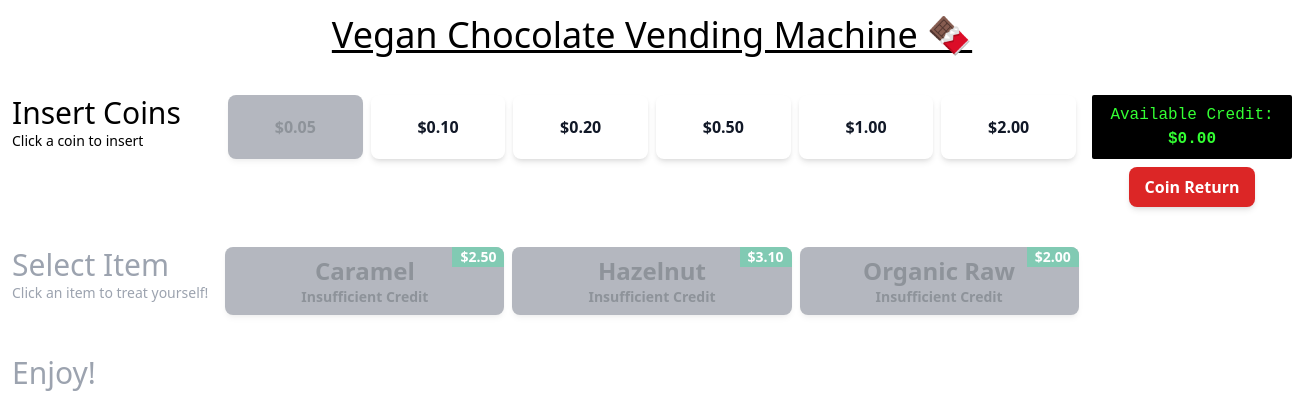
Test: vending machine tests › should allow 10c, 20c, 50c, $1, $2 coins
Click the button "$0.10". click: x=438, y=127
box: [371,95,505,159]
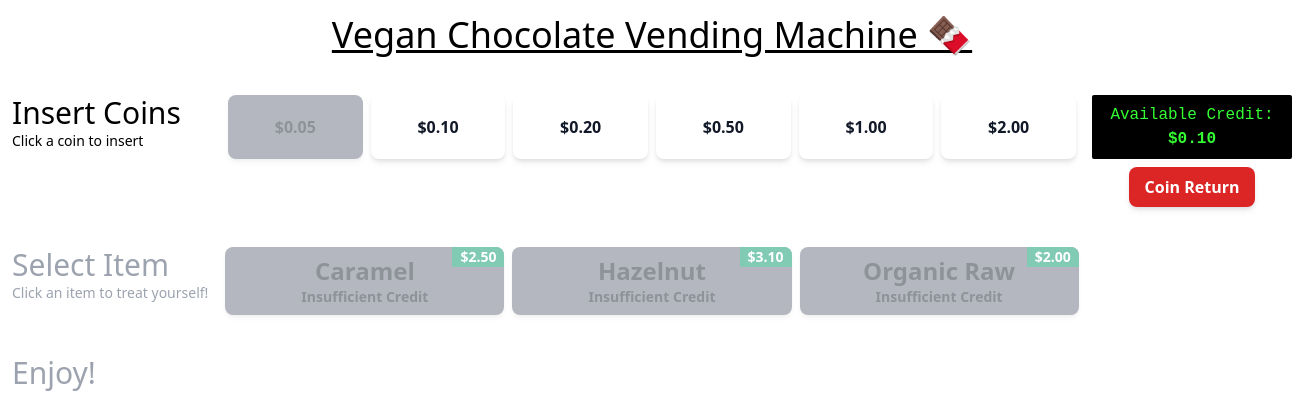
Click the button "$0.20". click: x=581, y=127
box: [513,95,648,159]
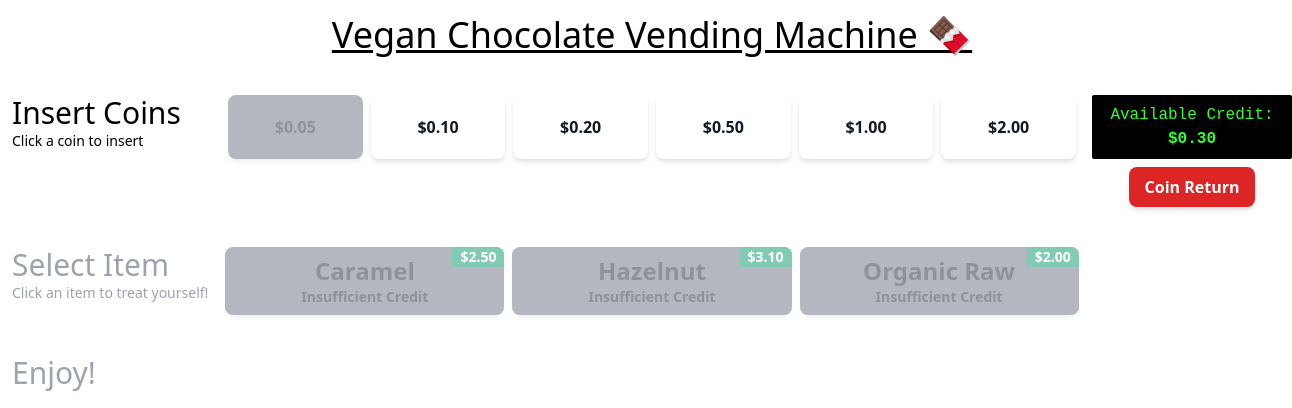
Click the button "$0.50". click: x=723, y=127
box: [656,95,791,159]
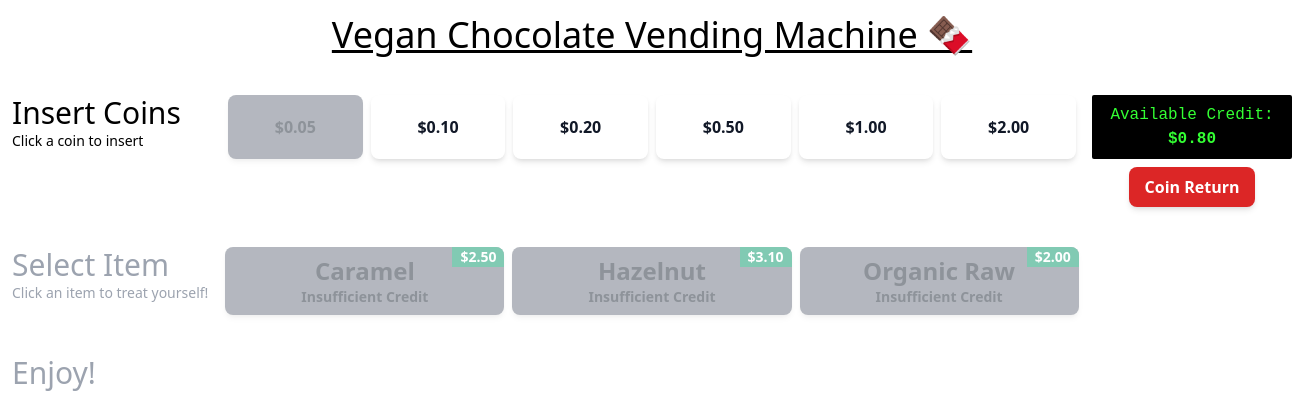
Click the button "$1.00". click: x=866, y=127
box: [799,95,933,159]
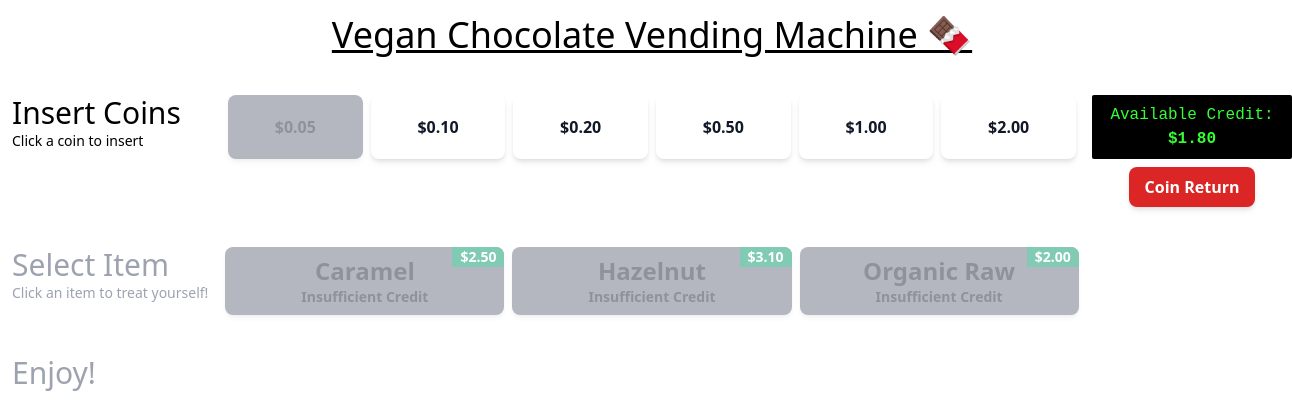
Click the button "$2.00". click: x=1009, y=127
box: [941,95,1076,159]
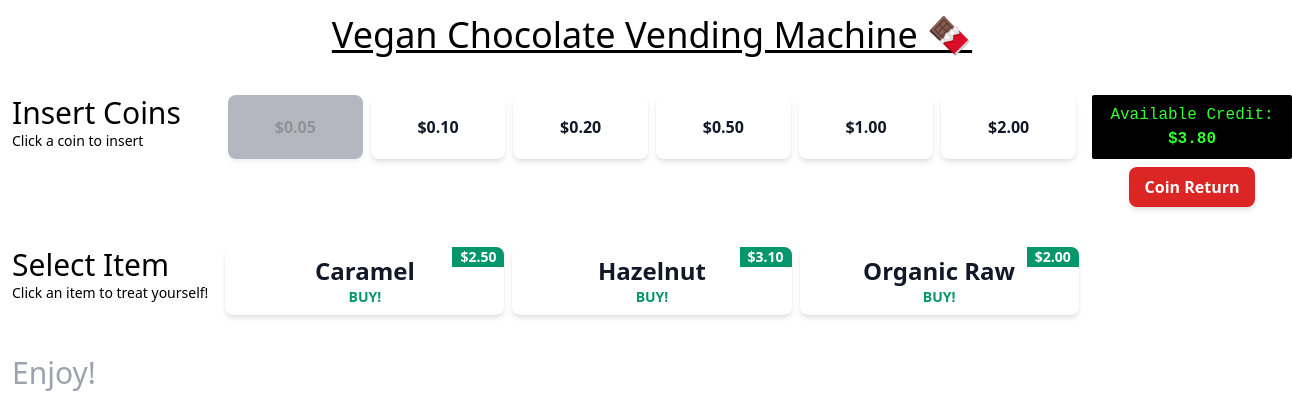
Now the text "$3.80" is shown, box [1168,130,1216,148]
